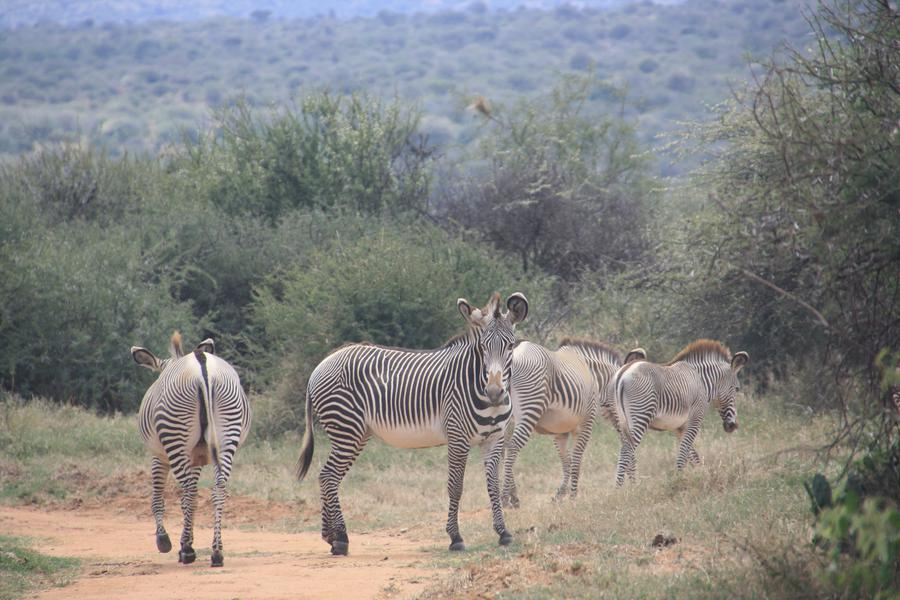zebra_grevys: (303, 331, 478, 440)
